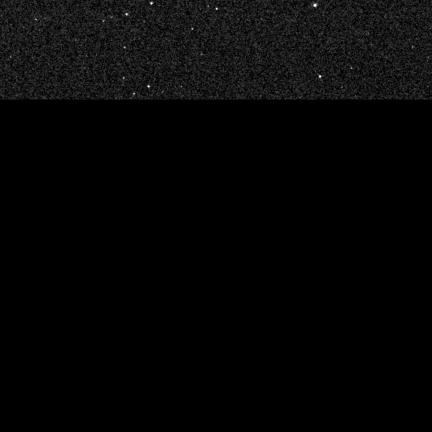blob: (125, 13, 129, 17), (150, 2, 154, 6), (319, 75, 322, 79), (148, 85, 151, 89), (124, 46, 127, 49), (314, 4, 317, 7), (133, 93, 136, 96), (103, 20, 106, 23), (216, 8, 219, 11), (192, 28, 194, 31), (123, 77, 125, 80)
